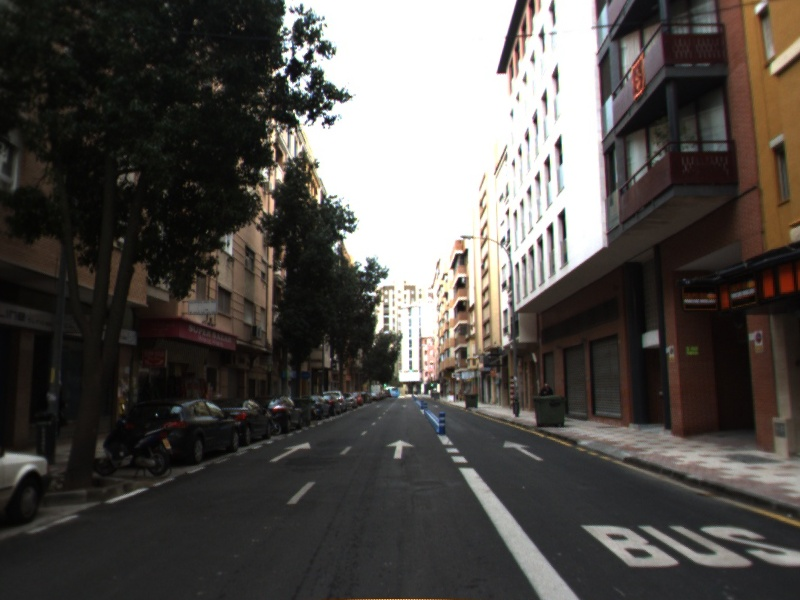STRAIGHT: (501, 438, 546, 462), (268, 440, 313, 464), (384, 437, 417, 461)
